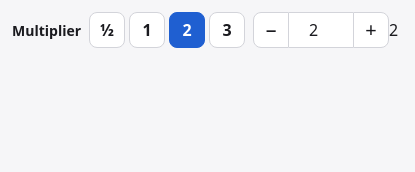
Test: Stepper › increments and decrements by the step
The image size is (415, 172).
Click the button named "Increase" at (371, 30), box [353,12,389,48]
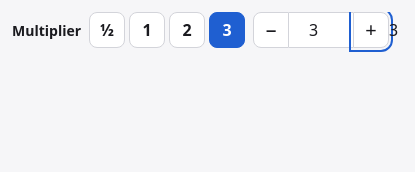
Now the text with test id "value" reads "3", box [389,18,398,40]
Click the button named "Decrease" at (271, 30), box [253,12,289,48]
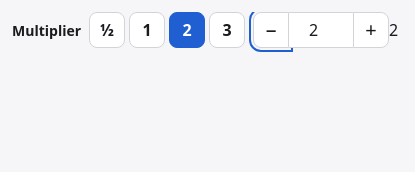
Now the text with test id "value" reads "2", box [389,18,398,40]
